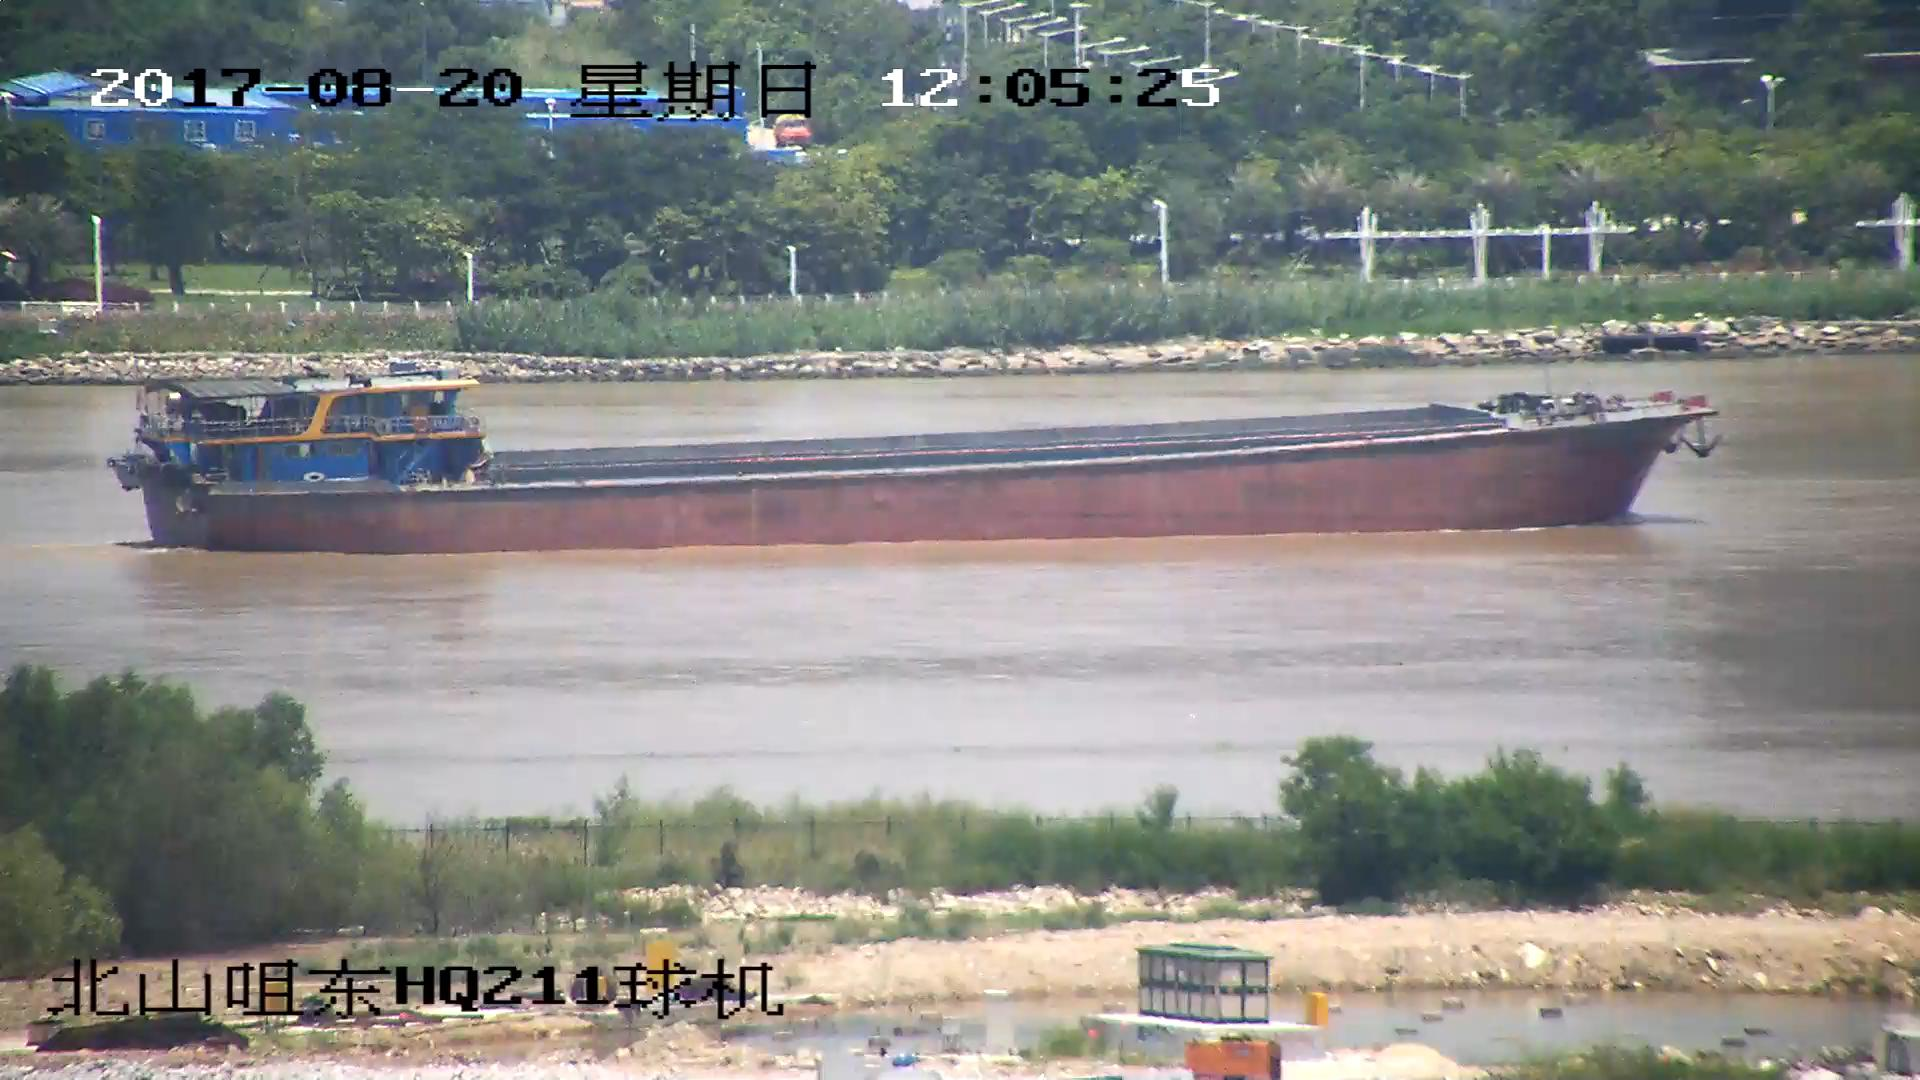bulk cargo carrier: (104, 361, 1723, 554)
